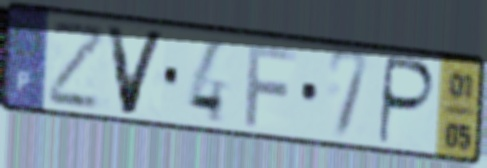4: (182, 35, 232, 127)
7: (325, 46, 371, 147)
F: (242, 40, 300, 130)
P: (375, 53, 439, 148)
V: (102, 21, 170, 118)
Z: (47, 21, 109, 112)
